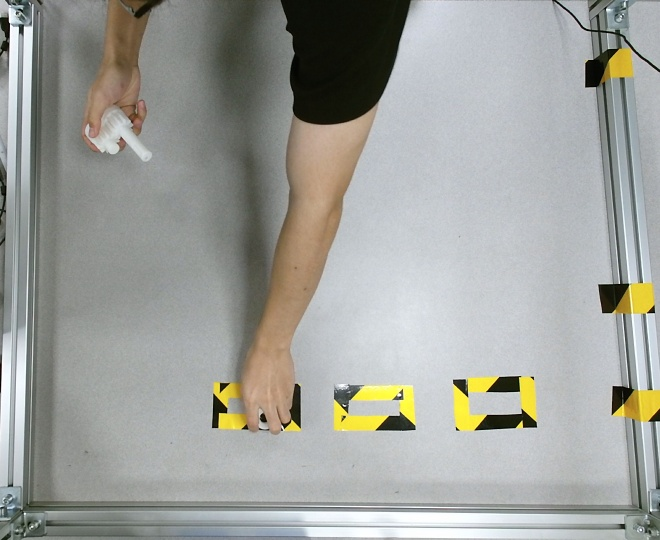stage_3: (86, 104, 153, 162)
